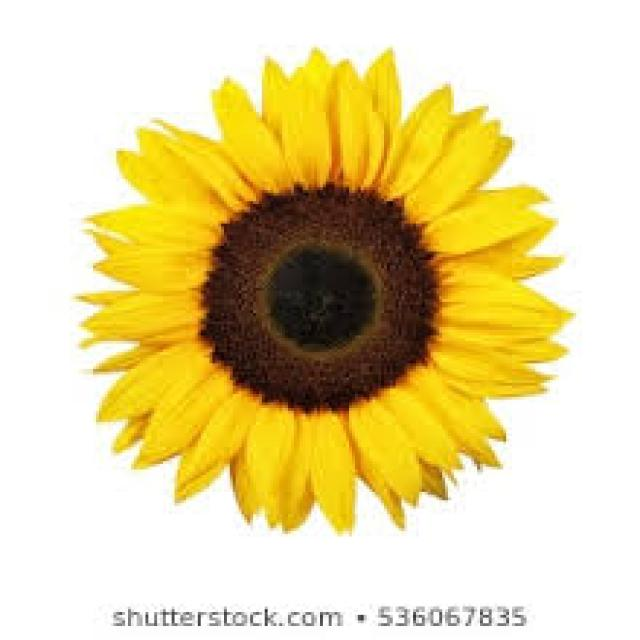sunflower: (58, 28, 599, 545)
